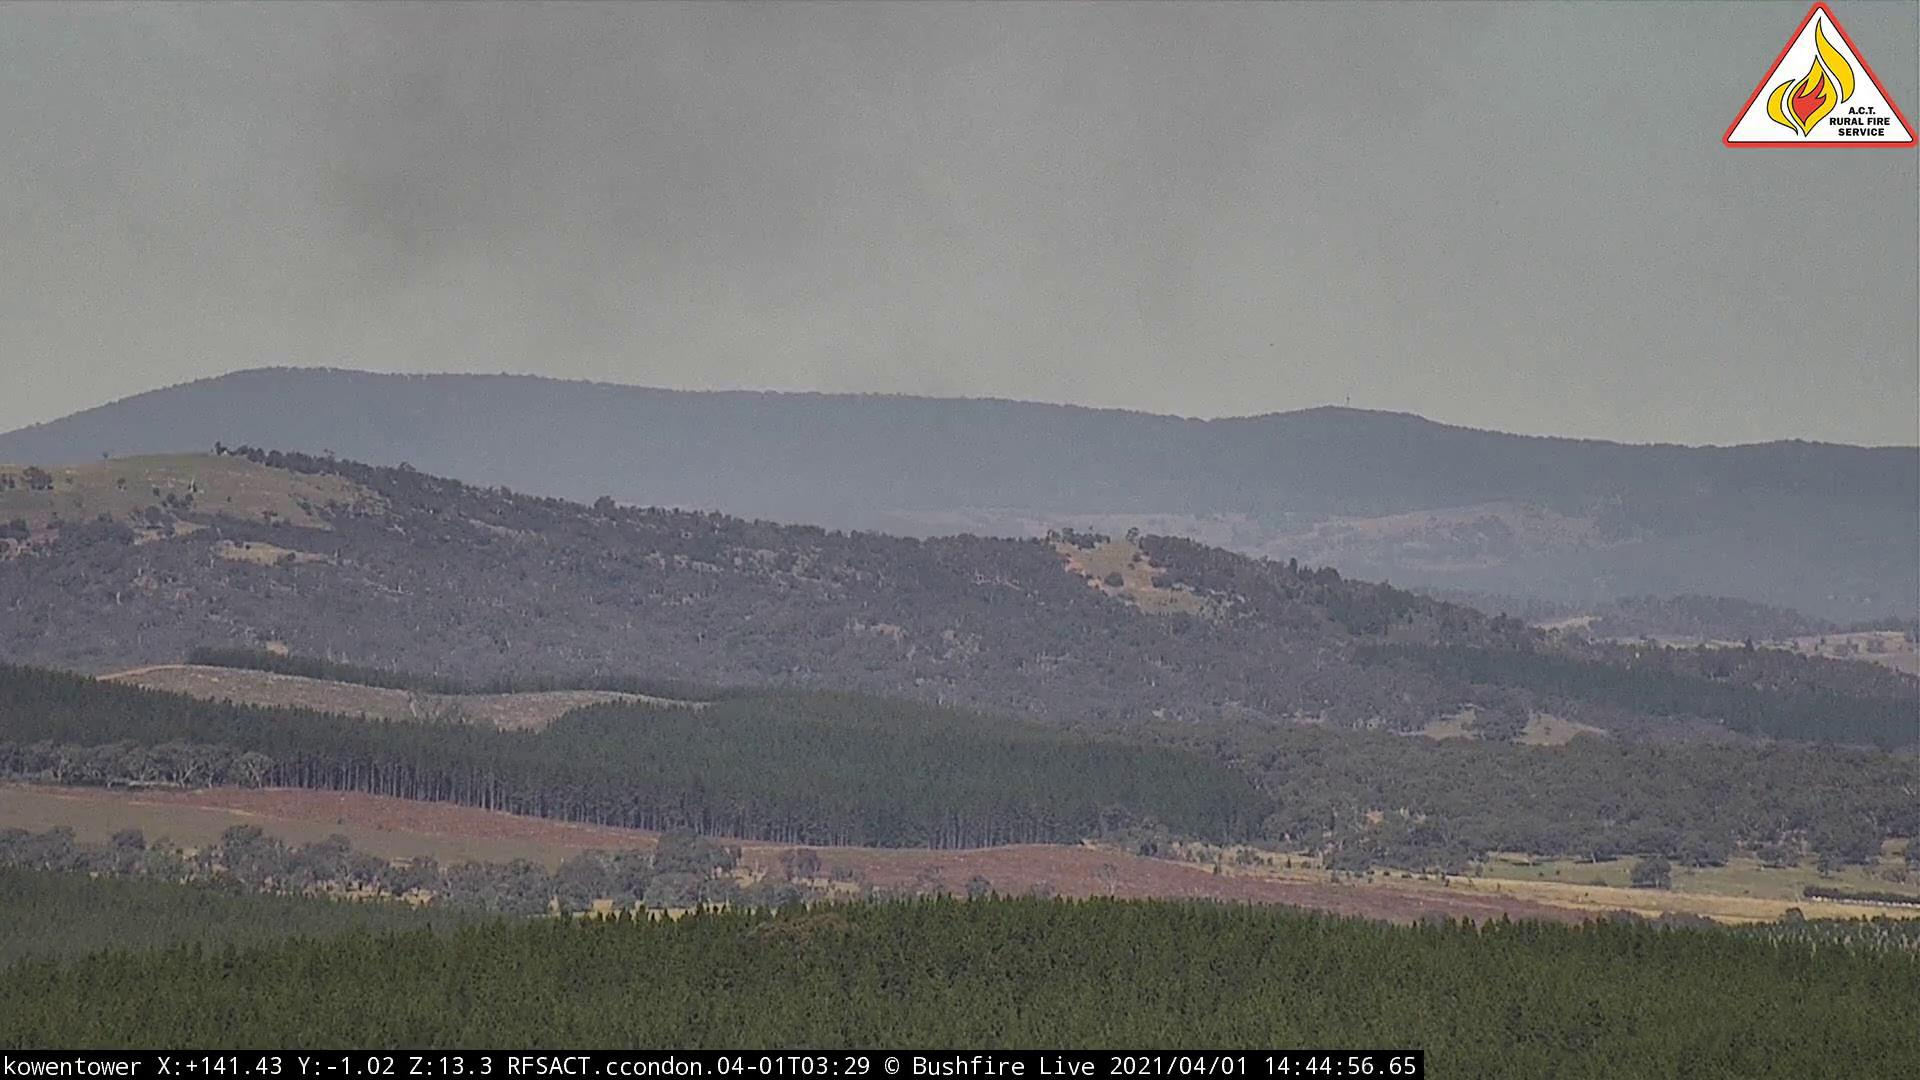Smoke: (305, 69, 998, 397)
